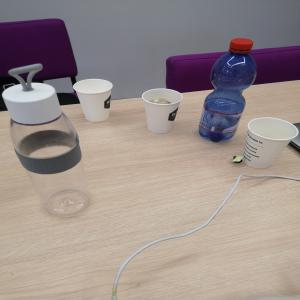Cup: (243, 118, 300, 170), (142, 89, 184, 135), (73, 79, 114, 124)
Plastic-bottle: (1, 83, 92, 217), (197, 38, 261, 145)
